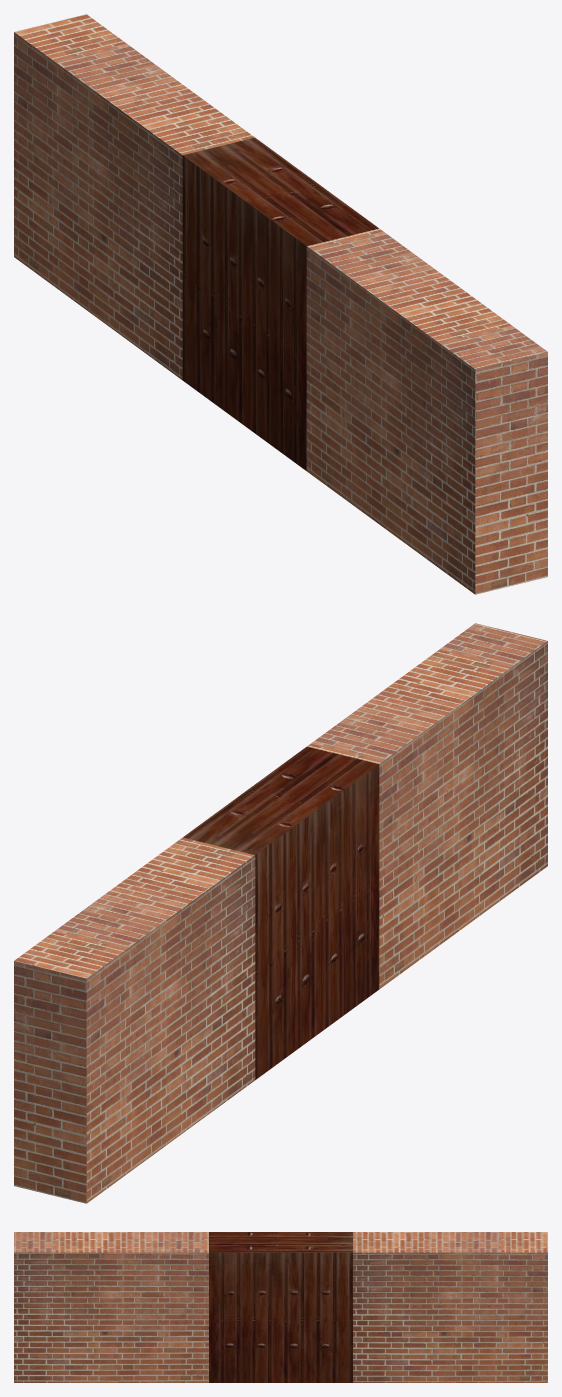
The model's file is puerta.fbx.
3 views of the same model, one above another, from view 1: azimuth 30°, elevation 25°; view 2: azimuth 150°, elevation 25°; view 3: azimuth 270°, elevation 25° (orthographic). The views are drawn at different scales.
Visible parts, largest first — view 1: pared, puerta; view 2: pared, puerta; view 3: pared, puerta.
Boxes of the visible parts, x1,y1,x2,y2 form: pared: [14, 14, 547, 594]; puerta: [182, 137, 378, 470]; pared: [14, 623, 547, 1203]; puerta: [183, 746, 379, 1079]; pared: [14, 1232, 547, 1382]; puerta: [209, 1232, 352, 1382].
Bounding box in the file's own units: 67.5 × 200 × 743.
